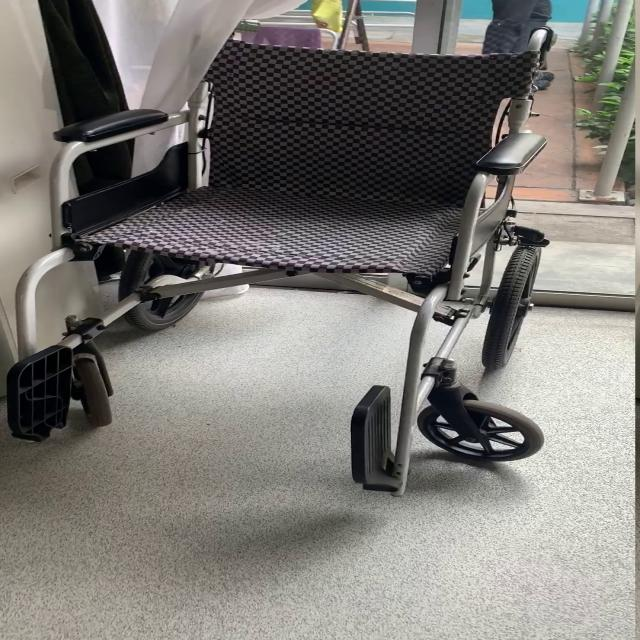wheelchair: (1, 0, 640, 528)
